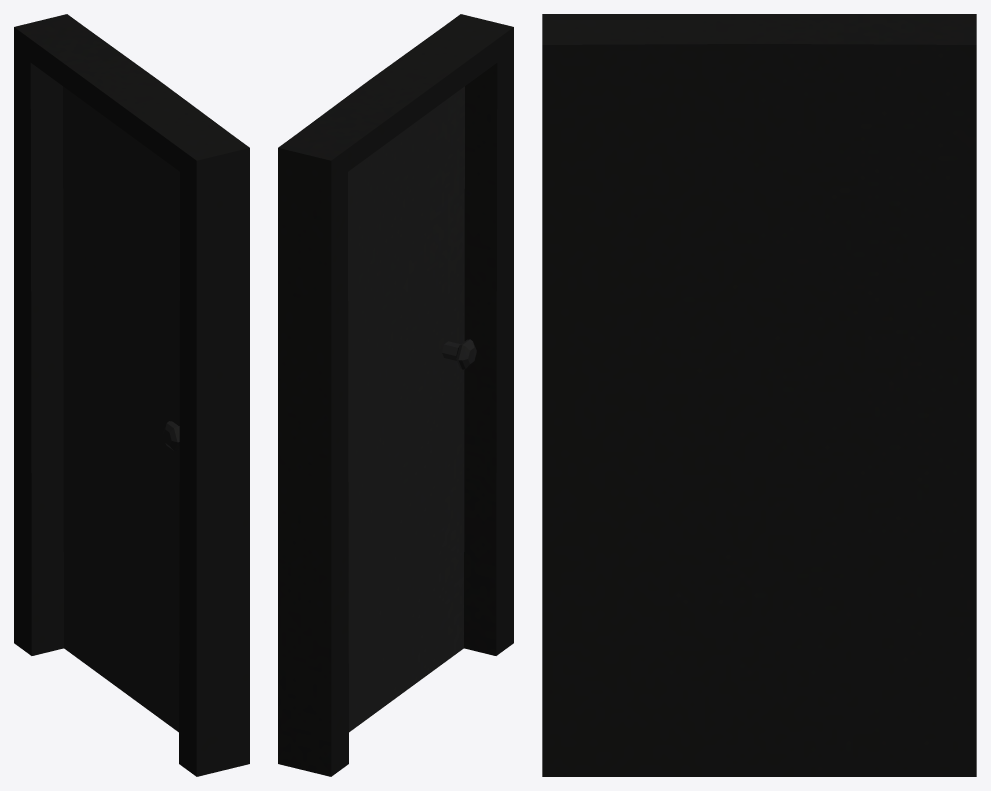
Rendered from Ovi.fbx.
The picture shows the model from 3 angles, left to right: view 1: azimuth 30°, elevation 25°; view 2: azimuth 150°, elevation 25°; view 3: azimuth 270°, elevation 25°; orthographic projection. The views are drawn at different scales.
Parts seen in each view (by area): view 1: Ovi; view 2: Ovi; view 3: Ovi.
Boxes of the visible parts, <box> form: Ovi: <box>14,14,249,776</box>; Ovi: <box>278,14,513,776</box>; Ovi: <box>542,14,976,776</box>.
Size of the model in its own units: 93.81 by 1040 by 558.
1 material, 1 textured.
